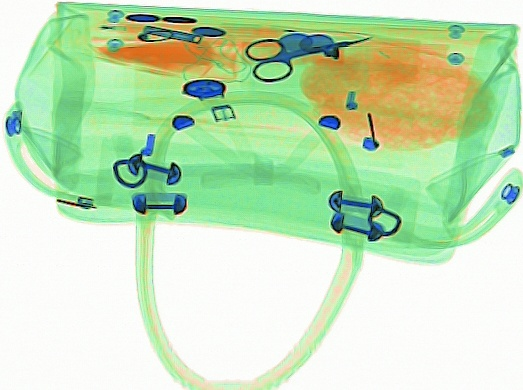scissors: (242, 33, 376, 83)
